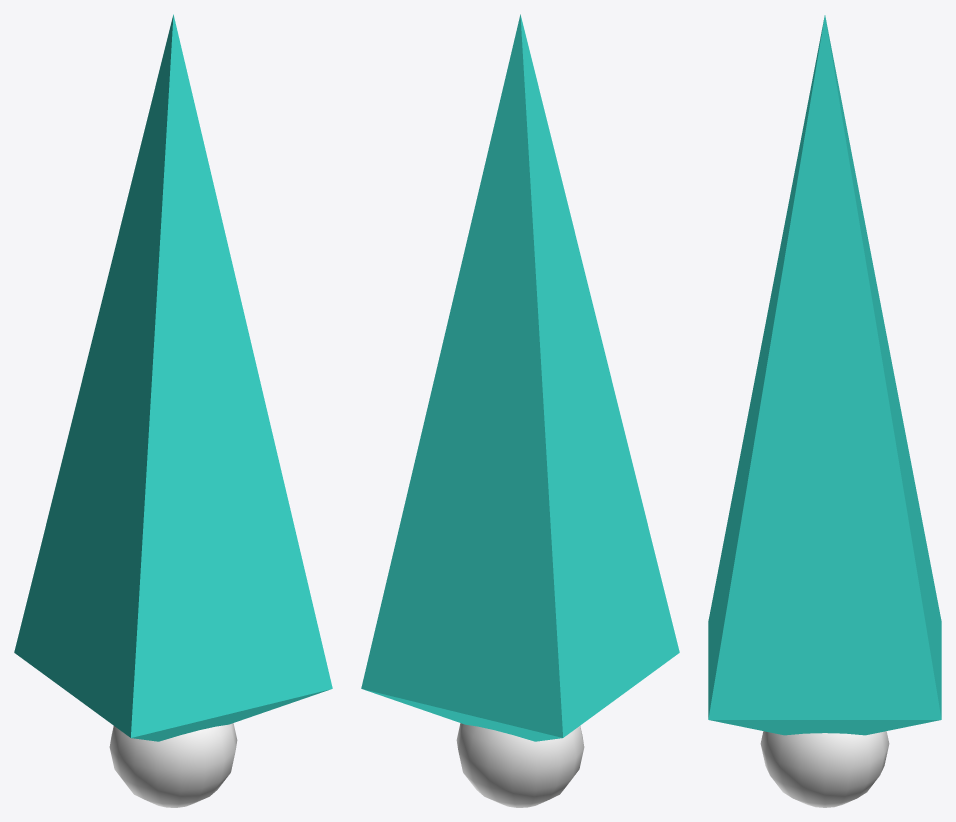
The model's file is bone.FBX.
The picture shows the model from 3 angles, left to right: view 1: azimuth 30°, elevation 25°; view 2: azimuth 150°, elevation 25°; view 3: azimuth 270°, elevation 25°; orthographic projection.
Parts seen in each view (by area): view 1: Box001, Sphere001; view 2: Box001, Sphere001; view 3: Box001, Sphere001.
Boxes of the visible parts, x1,y1,x2,y2 form: Box001: (14, 14, 332, 741); Sphere001: (109, 723, 237, 807); Box001: (361, 14, 679, 741); Sphere001: (456, 723, 584, 807); Box001: (708, 15, 941, 735); Sphere001: (760, 731, 889, 807).
Size of the model in its own units: 0.2897 by 1.08 by 0.2897.
